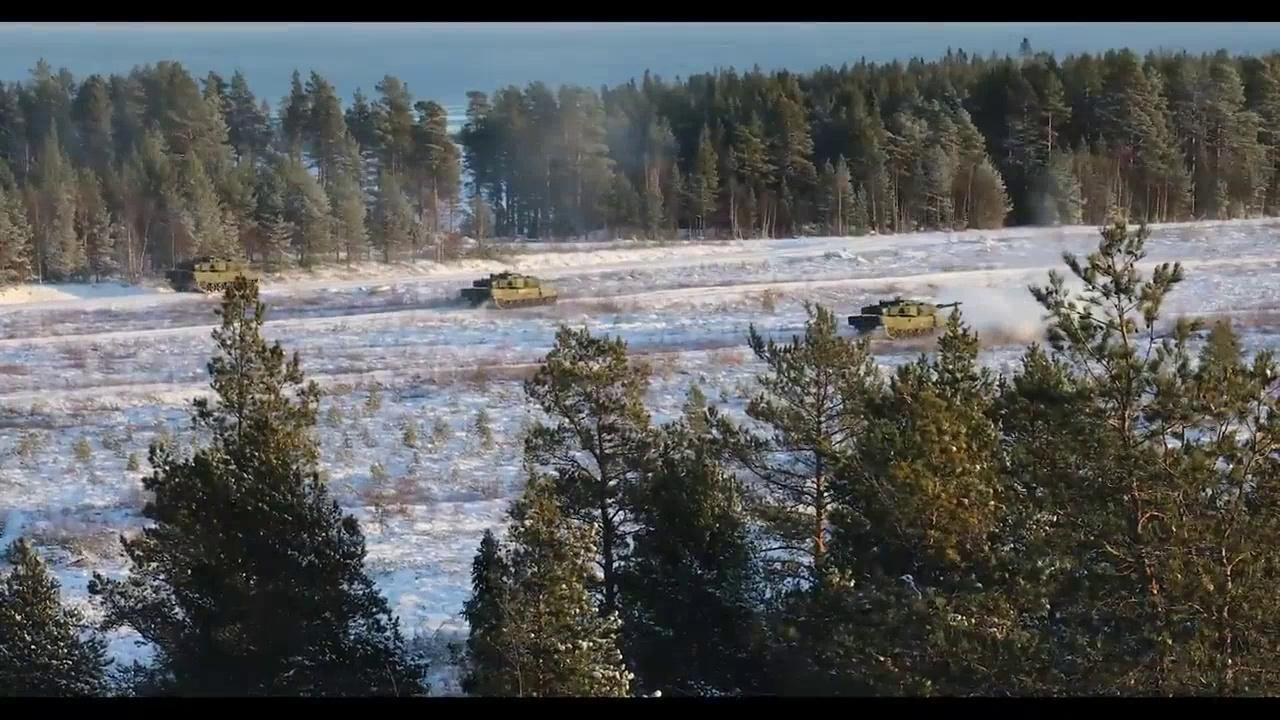tank: (847, 296, 964, 340), (164, 255, 282, 294), (460, 271, 570, 310)
